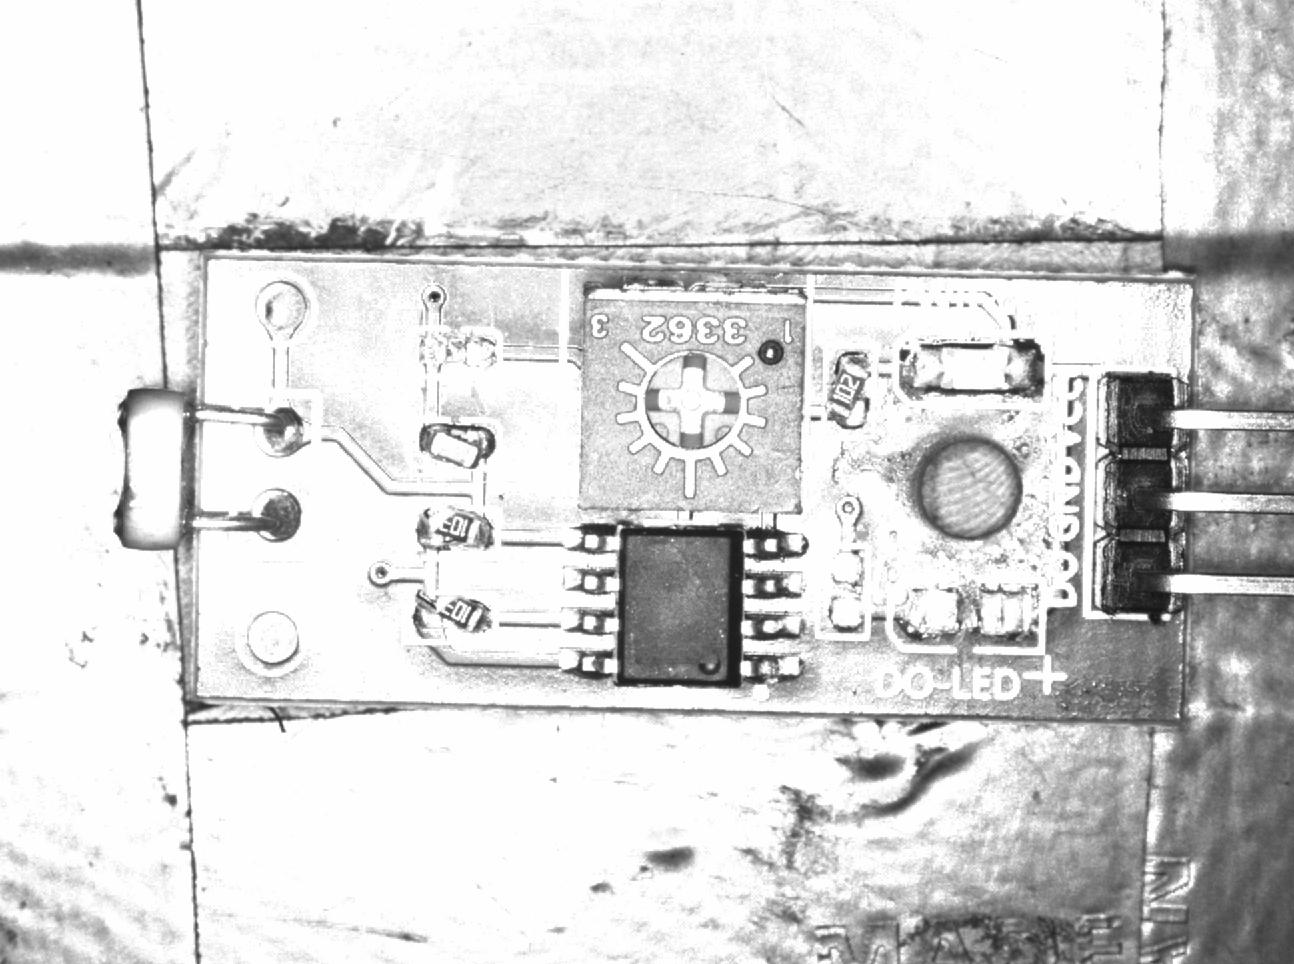lifted: (393, 589, 502, 649), (405, 414, 505, 472), (826, 341, 878, 436), (406, 507, 502, 554)
miss: (821, 544, 872, 639), (409, 329, 502, 376)
